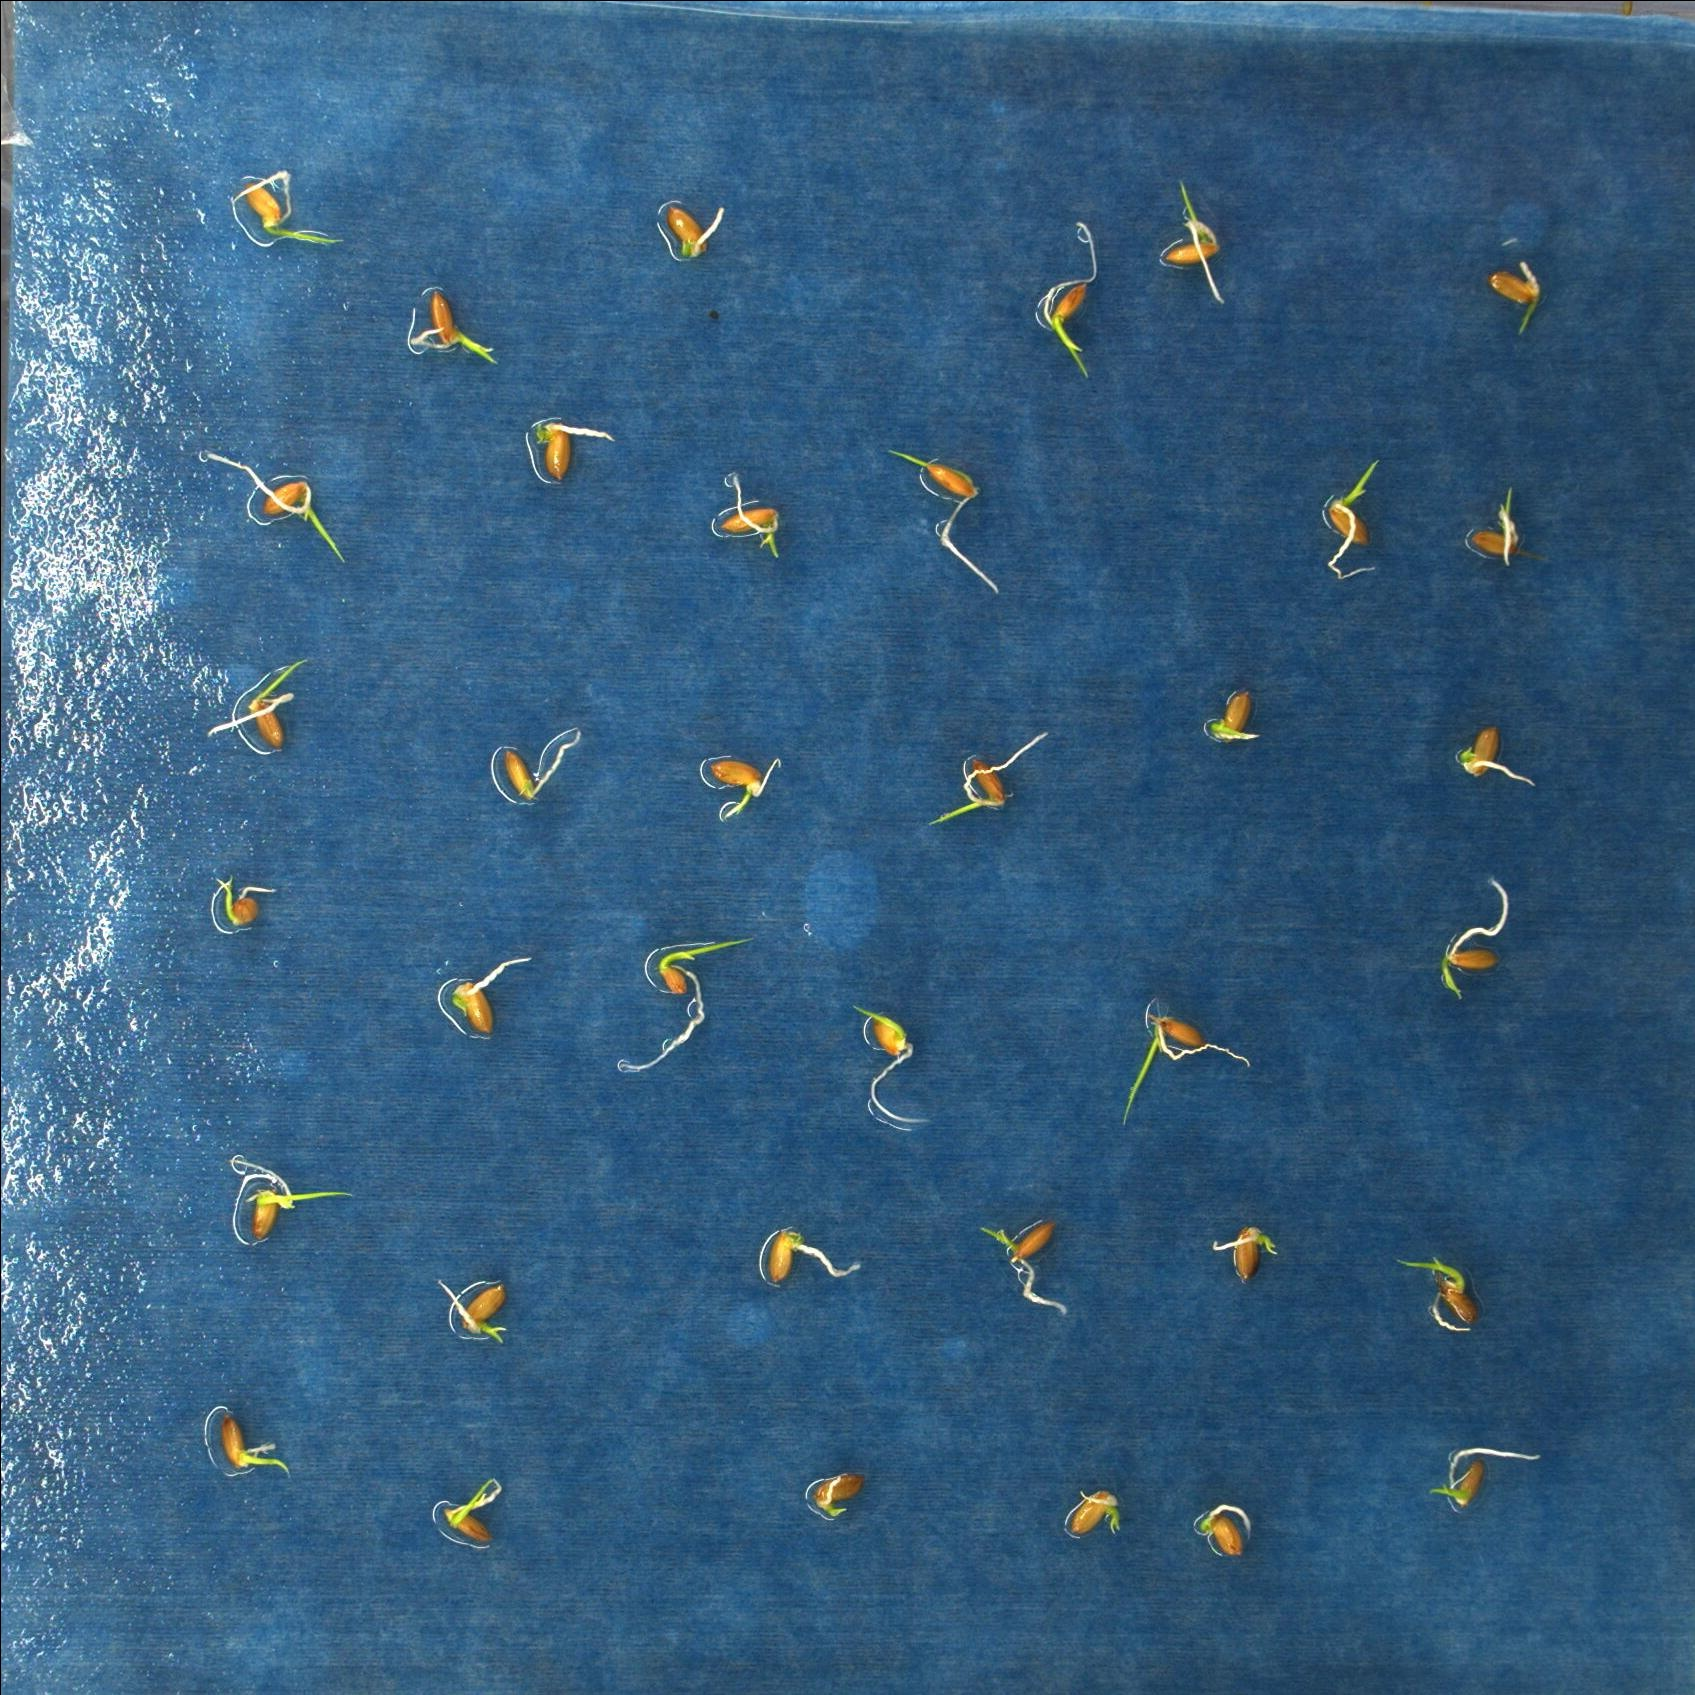not sprout: (490, 714, 584, 823), (747, 1218, 869, 1301), (424, 945, 536, 1034), (518, 404, 618, 487), (706, 463, 789, 560), (1450, 712, 1538, 796), (649, 186, 736, 265), (1046, 1468, 1127, 1541), (1191, 1490, 1262, 1568), (1206, 678, 1263, 757), (796, 1461, 868, 1521)
sprout: (608, 925, 753, 1080), (200, 442, 355, 570), (893, 439, 1014, 601), (1111, 998, 1260, 1121), (1020, 203, 1111, 380), (920, 720, 1057, 834), (837, 997, 941, 1142), (200, 640, 315, 771), (216, 1150, 357, 1256), (1302, 442, 1391, 601), (965, 1200, 1073, 1330), (1149, 168, 1237, 310), (224, 163, 346, 261), (1423, 1425, 1548, 1520), (1431, 872, 1516, 1003), (394, 275, 500, 373), (1399, 1242, 1493, 1343), (206, 1395, 300, 1492), (695, 740, 793, 827), (421, 1467, 512, 1558), (427, 1270, 525, 1347), (1482, 250, 1548, 348), (1458, 484, 1530, 565), (1215, 1212, 1277, 1296), (213, 872, 279, 941)
